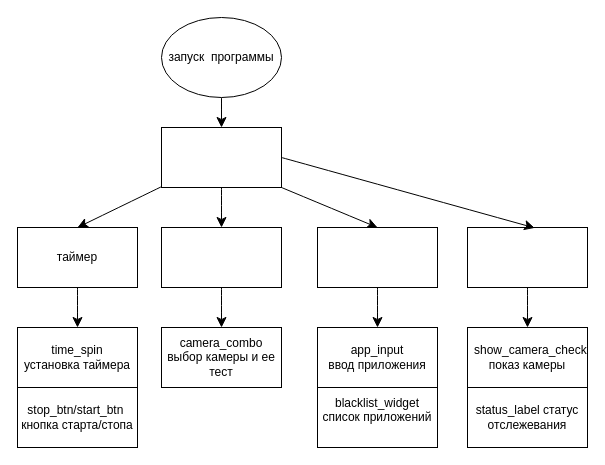
Some shapes in this 605 by 465 pixel diagram are drawn without their labels. Each missing label, with the centre of its shape:
"4 блока" goes at (x=221, y=157).
"камера" goes at (x=221, y=257).
"настройки" goes at (x=527, y=257).
"черный список" goes at (x=377, y=257).
